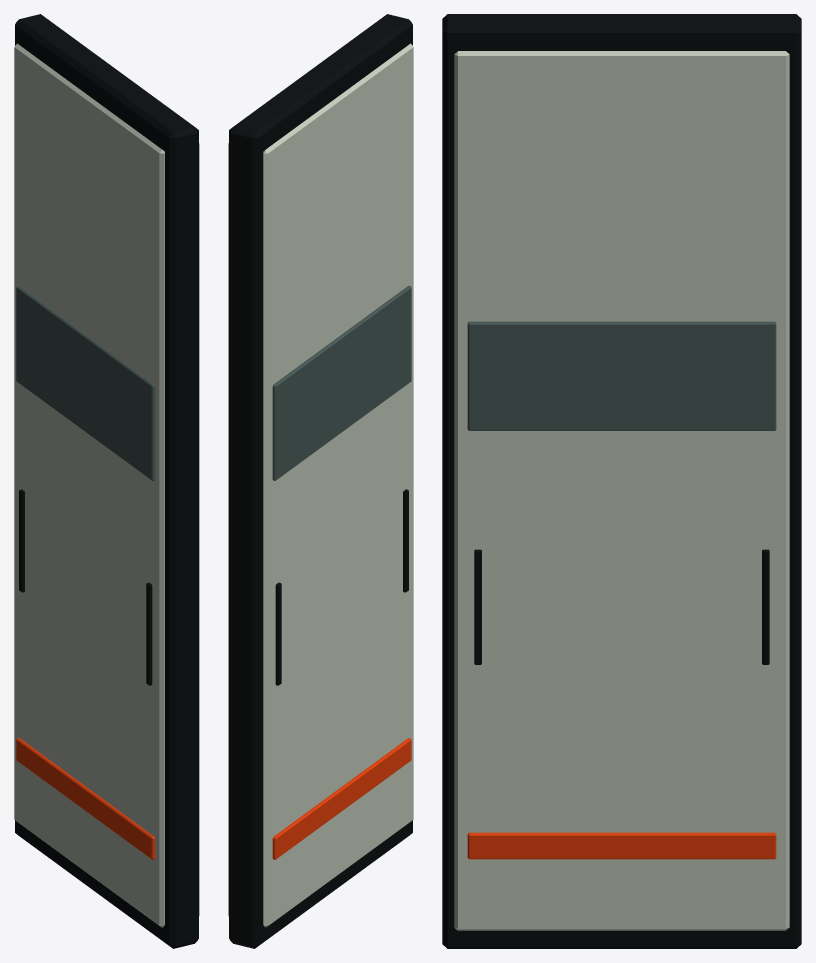
The model's file is SM_MP_Station_LiftDoorLeaf.fbx.
3 views of the same model, side by side, from view 1: azimuth 30°, elevation 25°; view 2: azimuth 150°, elevation 25°; view 3: azimuth 270°, elevation 25° (orthographic). The views are drawn at different scales.
Visible parts, largest first — view 1: SM_MP_Station_LiftDoorLeaf; view 2: SM_MP_Station_LiftDoorLeaf; view 3: SM_MP_Station_LiftDoorLeaf.
Part boxes in pixels (box(x1,y1,x2,y2)): SM_MP_Station_LiftDoorLeaf: box(14, 14, 199, 948); SM_MP_Station_LiftDoorLeaf: box(228, 14, 413, 948); SM_MP_Station_LiftDoorLeaf: box(442, 14, 801, 948).
Bounding box in the file's own units: 20.1 × 120 × 340.
Materials: 1 (1 with a texture image).
